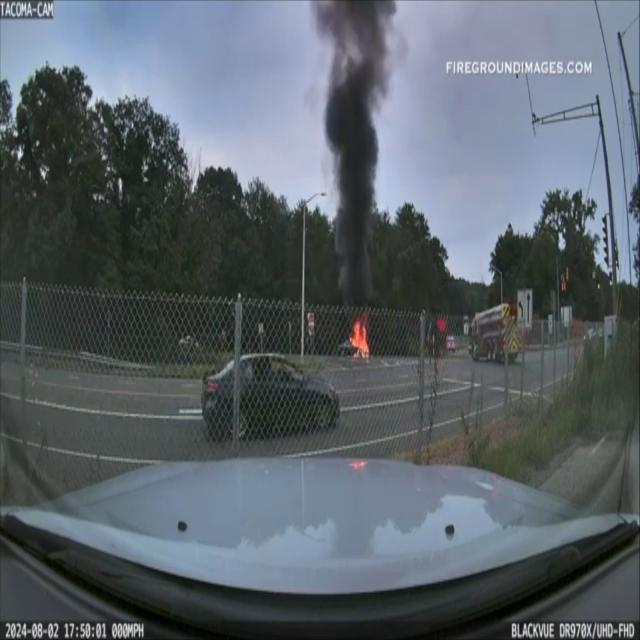fire: (340, 318, 375, 360)
